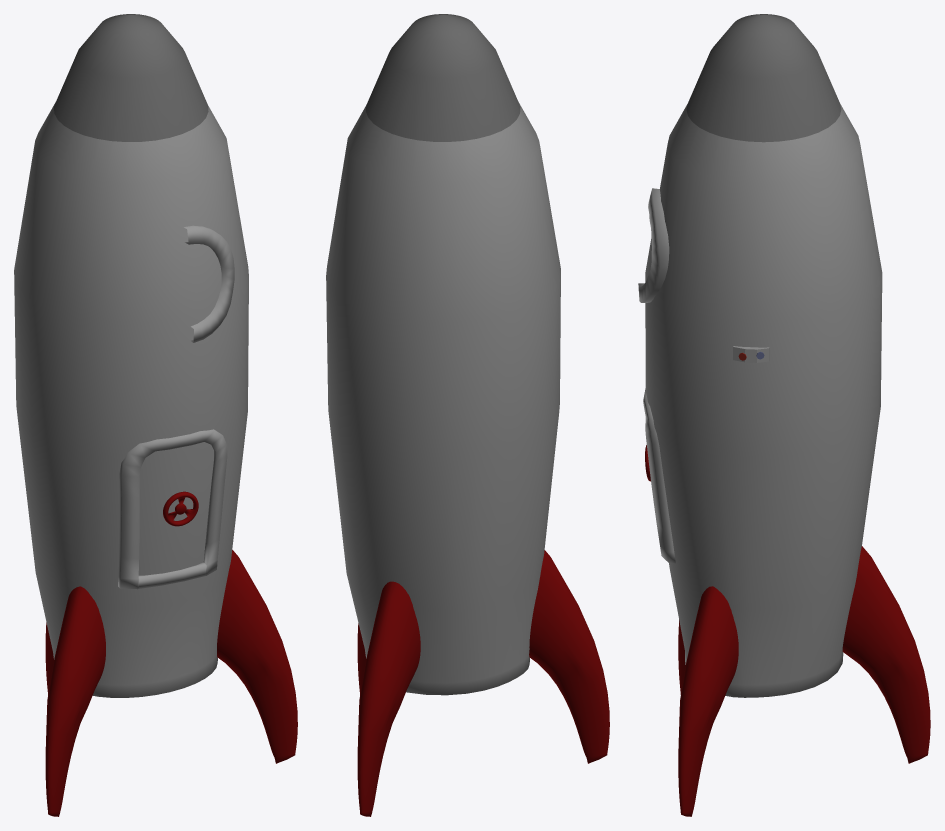
Rendered from retrorocket_for_blendswap.dae.
The picture shows the model from 3 angles, left to right: view 1: azimuth 30°, elevation 25°; view 2: azimuth 150°, elevation 25°; view 3: azimuth 270°, elevation 25°; orthographic projection.
Parts seen in each view (by area): view 1: MainBody, Cap, Fin, Fin_001, Hatch, WindowFrame, HatchHandle; view 2: MainBody, Cap, Fin_001, Fin_002; view 3: MainBody, Cap, Fin_002, Fin, Hatch, WindowFrame.
Boxes of the visible parts, left/top/right/bottom form: MainBody: left=14, top=102, right=248, bottom=697; Cap: left=54, top=14, right=208, bottom=141; Fin: left=217, top=550, right=297, bottom=763; Fin_001: left=45, top=586, right=105, bottom=816; Hatch: left=118, top=429, right=227, bottom=589; WindowFrame: left=184, top=225, right=234, bottom=342; HatchHandle: left=163, top=491, right=198, bottom=526; MainBody: left=326, top=101, right=560, bottom=695; Cap: left=366, top=14, right=520, bottom=141; Fin_001: left=529, top=550, right=609, bottom=763; Fin_002: left=357, top=581, right=420, bottom=816; MainBody: left=645, top=103, right=882, bottom=697; Cap: left=686, top=14, right=841, bottom=142; Fin_002: left=842, top=546, right=930, bottom=763; Fin: left=678, top=586, right=738, bottom=816; Hatch: left=643, top=388, right=675, bottom=563; WindowFrame: left=638, top=188, right=669, bottom=302.
Bounding box in the file's own units: 2.43 × 2.45 × 6.92.
